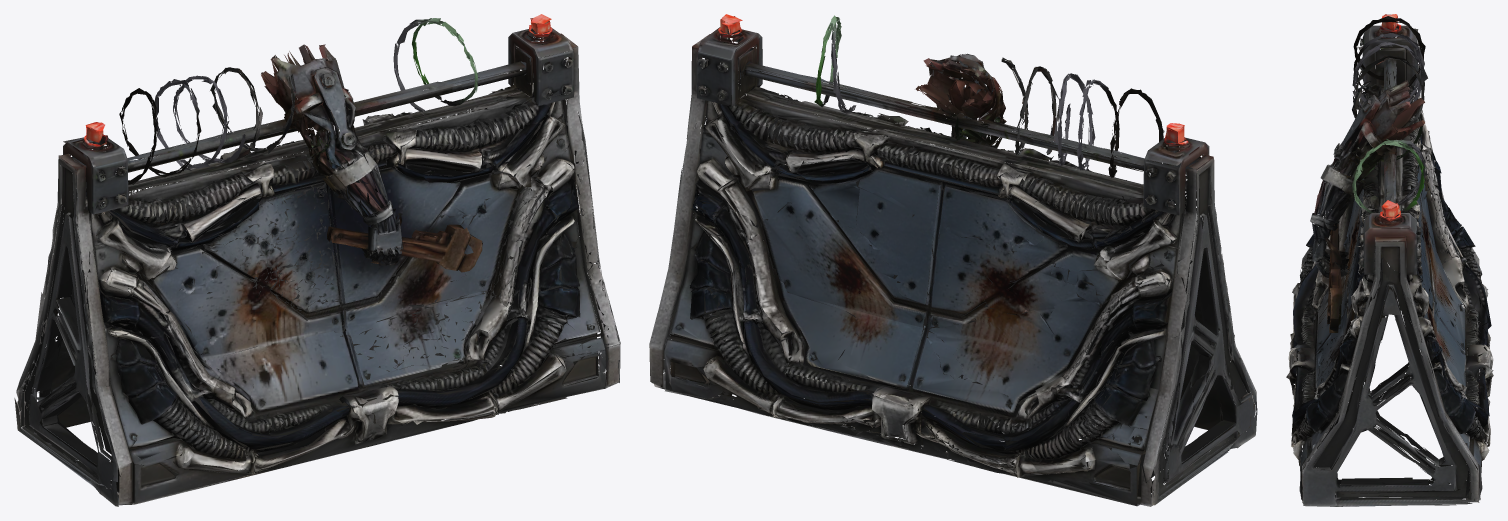
File: corp_suppression_barrier.glb
3 views of the same model, side by side, from view 1: azimuth 30°, elevation 25°; view 2: azimuth 150°, elevation 25°; view 3: azimuth 270°, elevation 25° (orthographic). The views are drawn at different scales.
Parts seen in each view (by area): view 1: node_0; view 2: node_0; view 3: node_0.
Part boxes in pixels (x1,y1,x2,y2): node_0: (14,14,620,506); node_0: (649,14,1257,506); node_0: (1286,14,1493,506).
Bounding box in the file's own units: 0.9645 × 0.6593 × 0.3956.
Materials: 1 (1 with a texture image).
